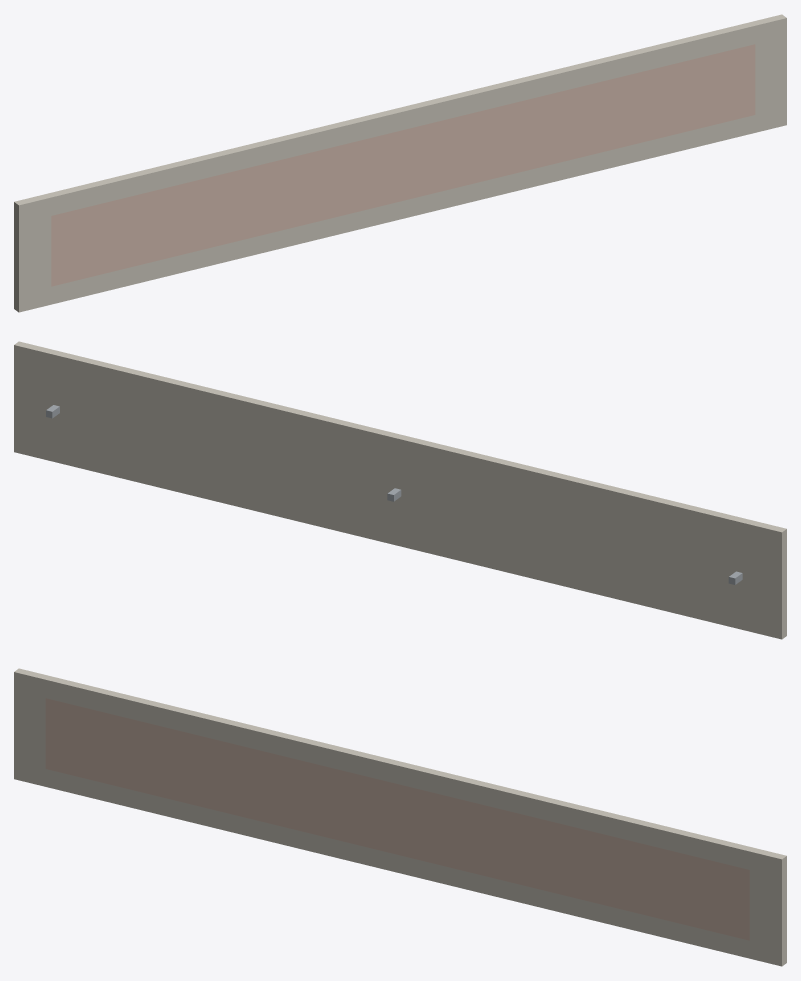
Rendered from WH_SIGN.glb.
3 renders of one model, top to bottom at view 1: azimuth 30°, elevation 25°; view 2: azimuth 150°, elevation 25°; view 3: azimuth 330°, elevation 25°, orthographic.
Visible parts, largest first — view 1: sign_1, paint_0; view 2: paint_0; view 3: sign_1, paint_0.
Part boxes in pixels (bbox=[...]): sign_1: bbox=[51, 44, 755, 286]; paint_0: bbox=[14, 14, 786, 312]; paint_0: bbox=[14, 341, 786, 639]; sign_1: bbox=[45, 698, 749, 940]; paint_0: bbox=[14, 668, 786, 966].
Bounding box in the file's own units: 18 × 2.4 × 0.51.
